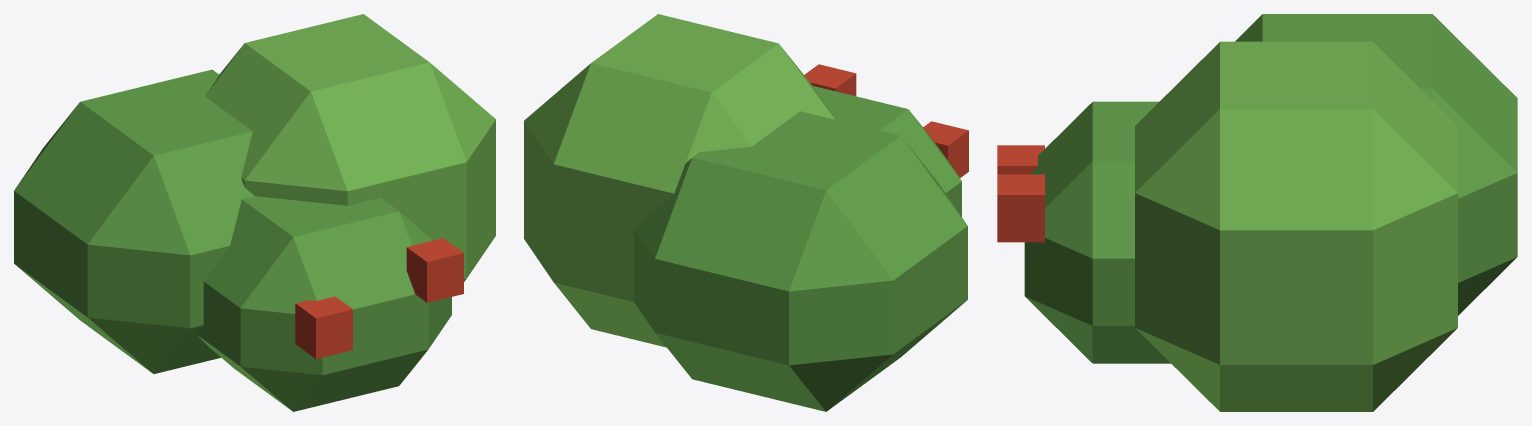
Rendered from env_r1_bush.glb.
The picture shows the model from 3 angles, left to right: view 1: azimuth 30°, elevation 25°; view 2: azimuth 150°, elevation 25°; view 3: azimuth 270°, elevation 25°; orthographic projection. The views are drawn at different scales.
Visible parts, largest first — view 1: env_r1_bush; view 2: env_r1_bush; view 3: env_r1_bush.
Part boxes in pixels (x1=…): env_r1_bush: x1=14, y1=14, x2=495, y2=411; env_r1_bush: x1=524, y1=14, x2=968, y2=411; env_r1_bush: x1=997, y1=14, x2=1517, y2=411.
Size of the model in its own units: 1.4 by 0.9 by 1.4.
1 material, 1 textured.
